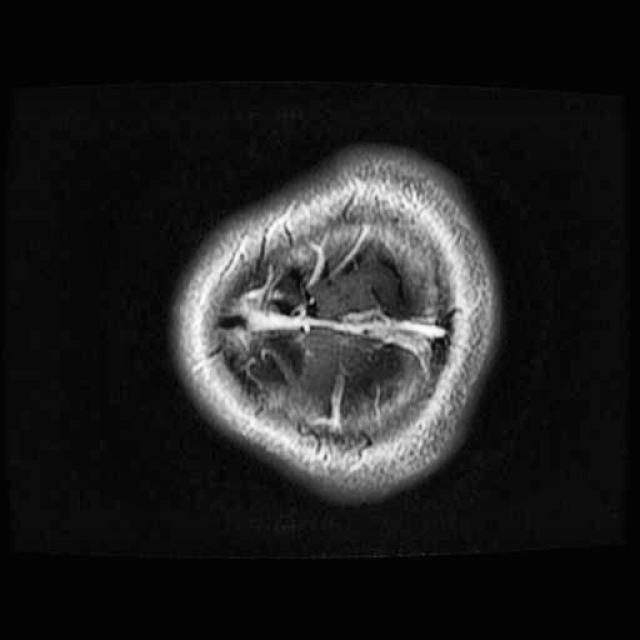Non-Tumor: (243, 254, 331, 396)
